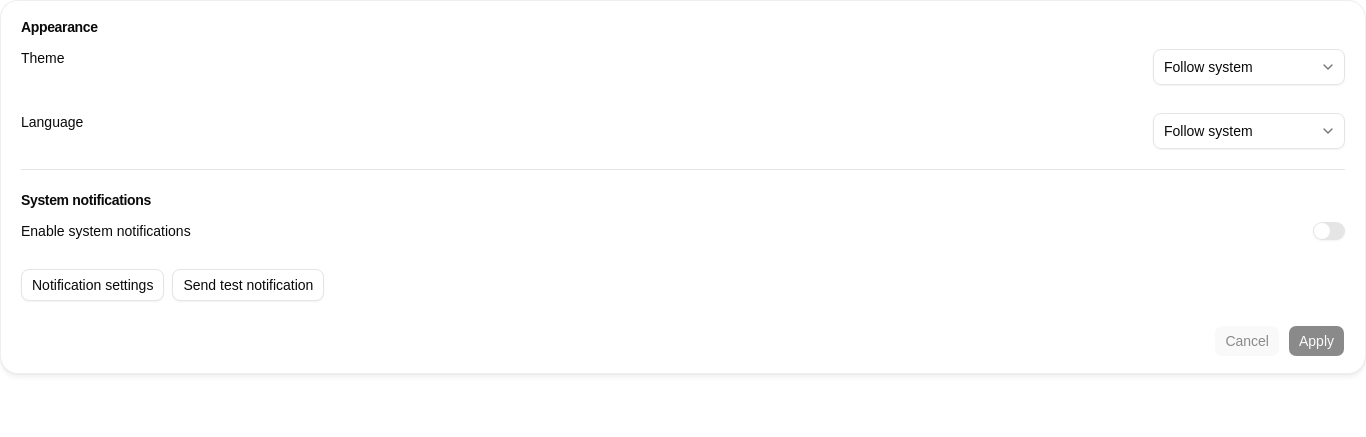
Test case: reports controlled feedback without exposing native errors
The width and height of the screenshot is (1366, 437).
Click the button "Send test notification".
click(248, 285)  # box [172, 269, 324, 301]
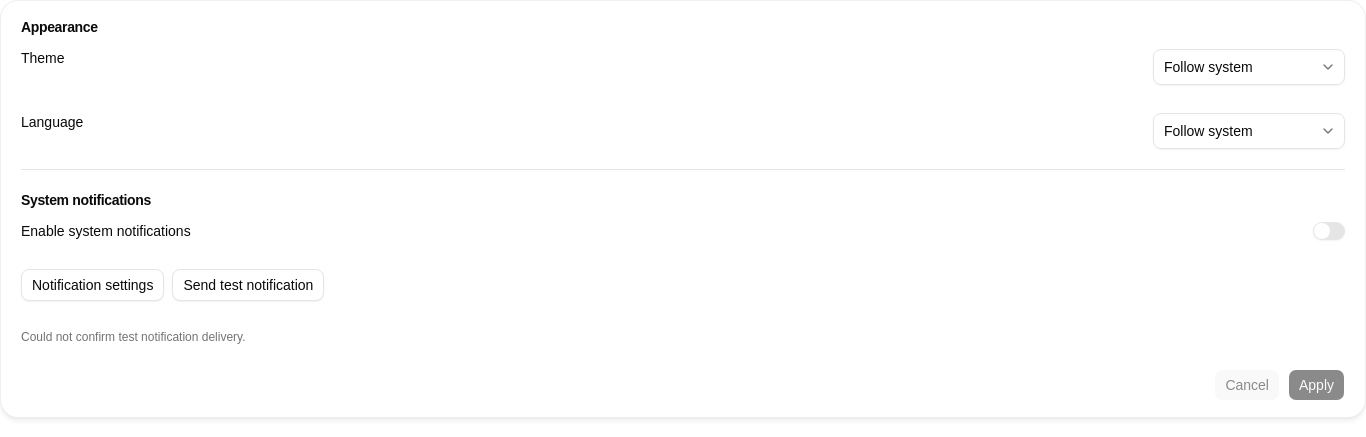
Result: the text "Could not confirm test notification delivery." is shown at [21, 330, 246, 344]
